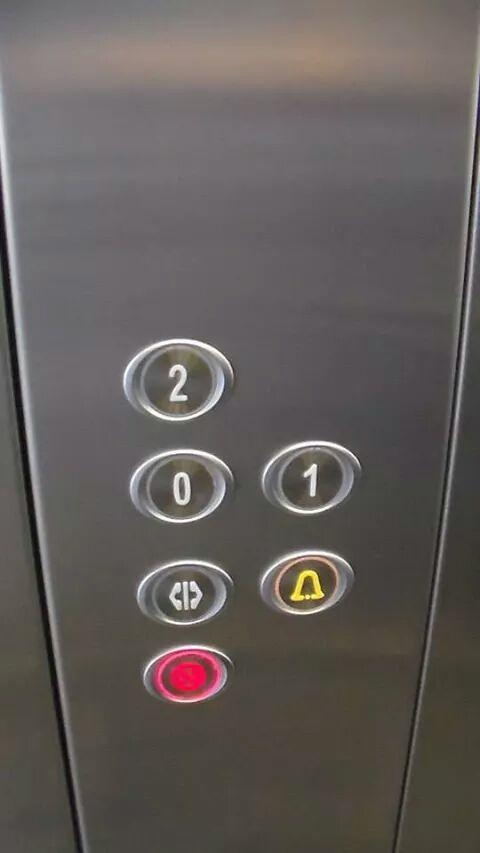0: (127, 450, 236, 523)
1: (261, 439, 365, 515)
2: (120, 338, 236, 423)
alarm: (258, 550, 357, 617)
fan: (141, 643, 237, 705)
open: (133, 559, 236, 627)
